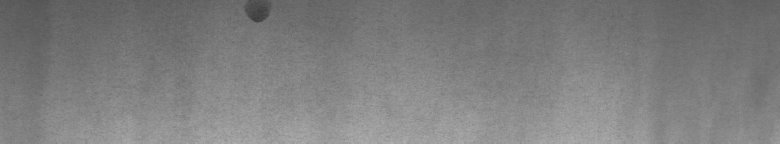fi: (236, 4, 275, 28)
